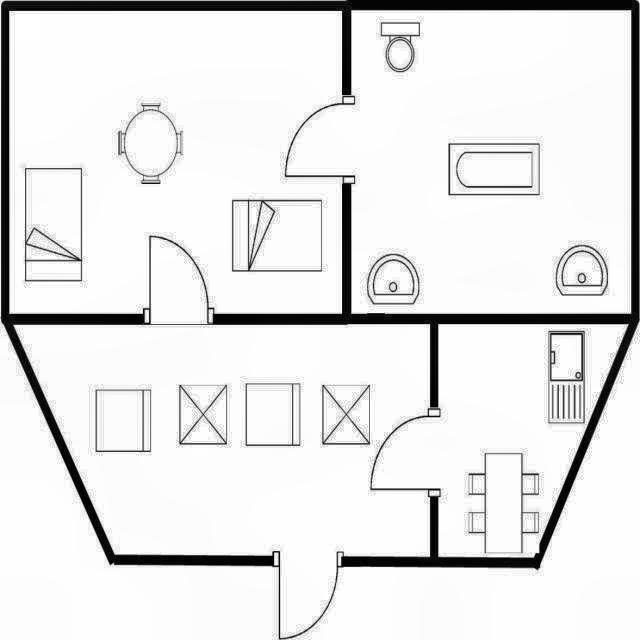room: (9, 11, 342, 314), (13, 324, 430, 557), (351, 10, 631, 314), (438, 324, 629, 558)
